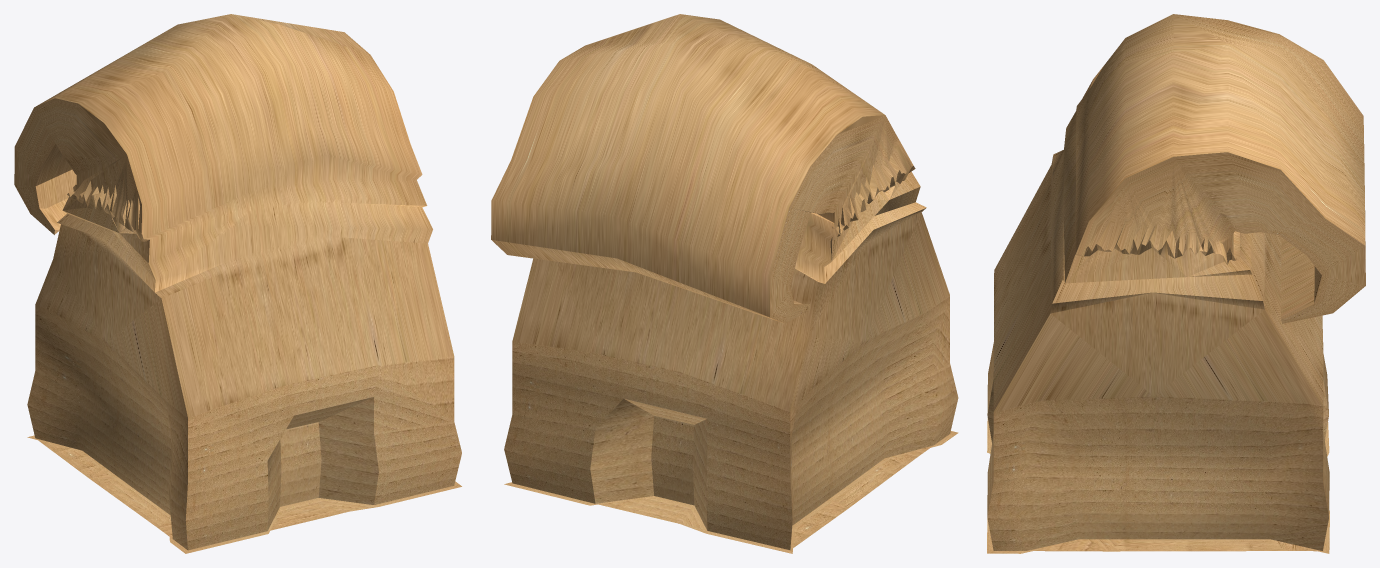
The model's file is PaperBag_1.fbx.
3 renders of one model, left to right at view 1: azimuth 30°, elevation 25°; view 2: azimuth 150°, elevation 25°; view 3: azimuth 270°, elevation 25°, orthographic. The views are drawn at different scales.
Visible parts, largest first — view 1: Cube; view 2: Cube; view 3: Cube.
Part boxes in pixels (<box>): Cube: <box>14,14,461,553</box>; Cube: <box>491,14,958,553</box>; Cube: <box>987,14,1365,553</box>.
Bounding box in the file's own units: 221 × 319 × 244.
Materials: 1 (1 with a texture image).
